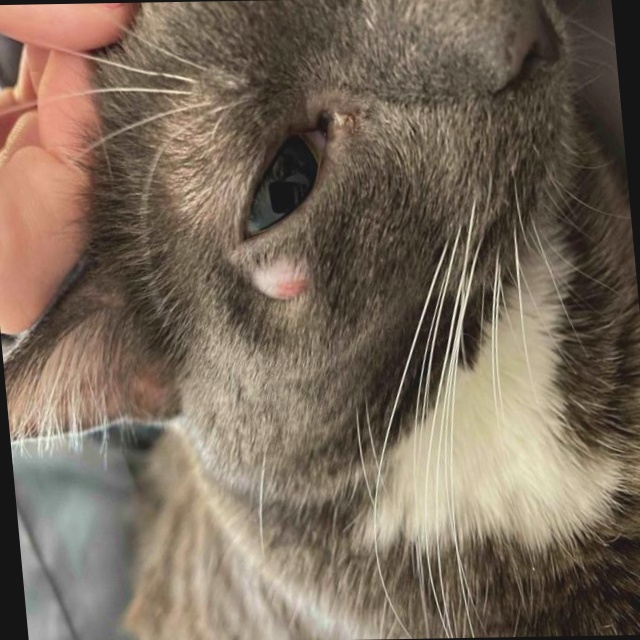lump_and_bump: (244, 255, 322, 299)
